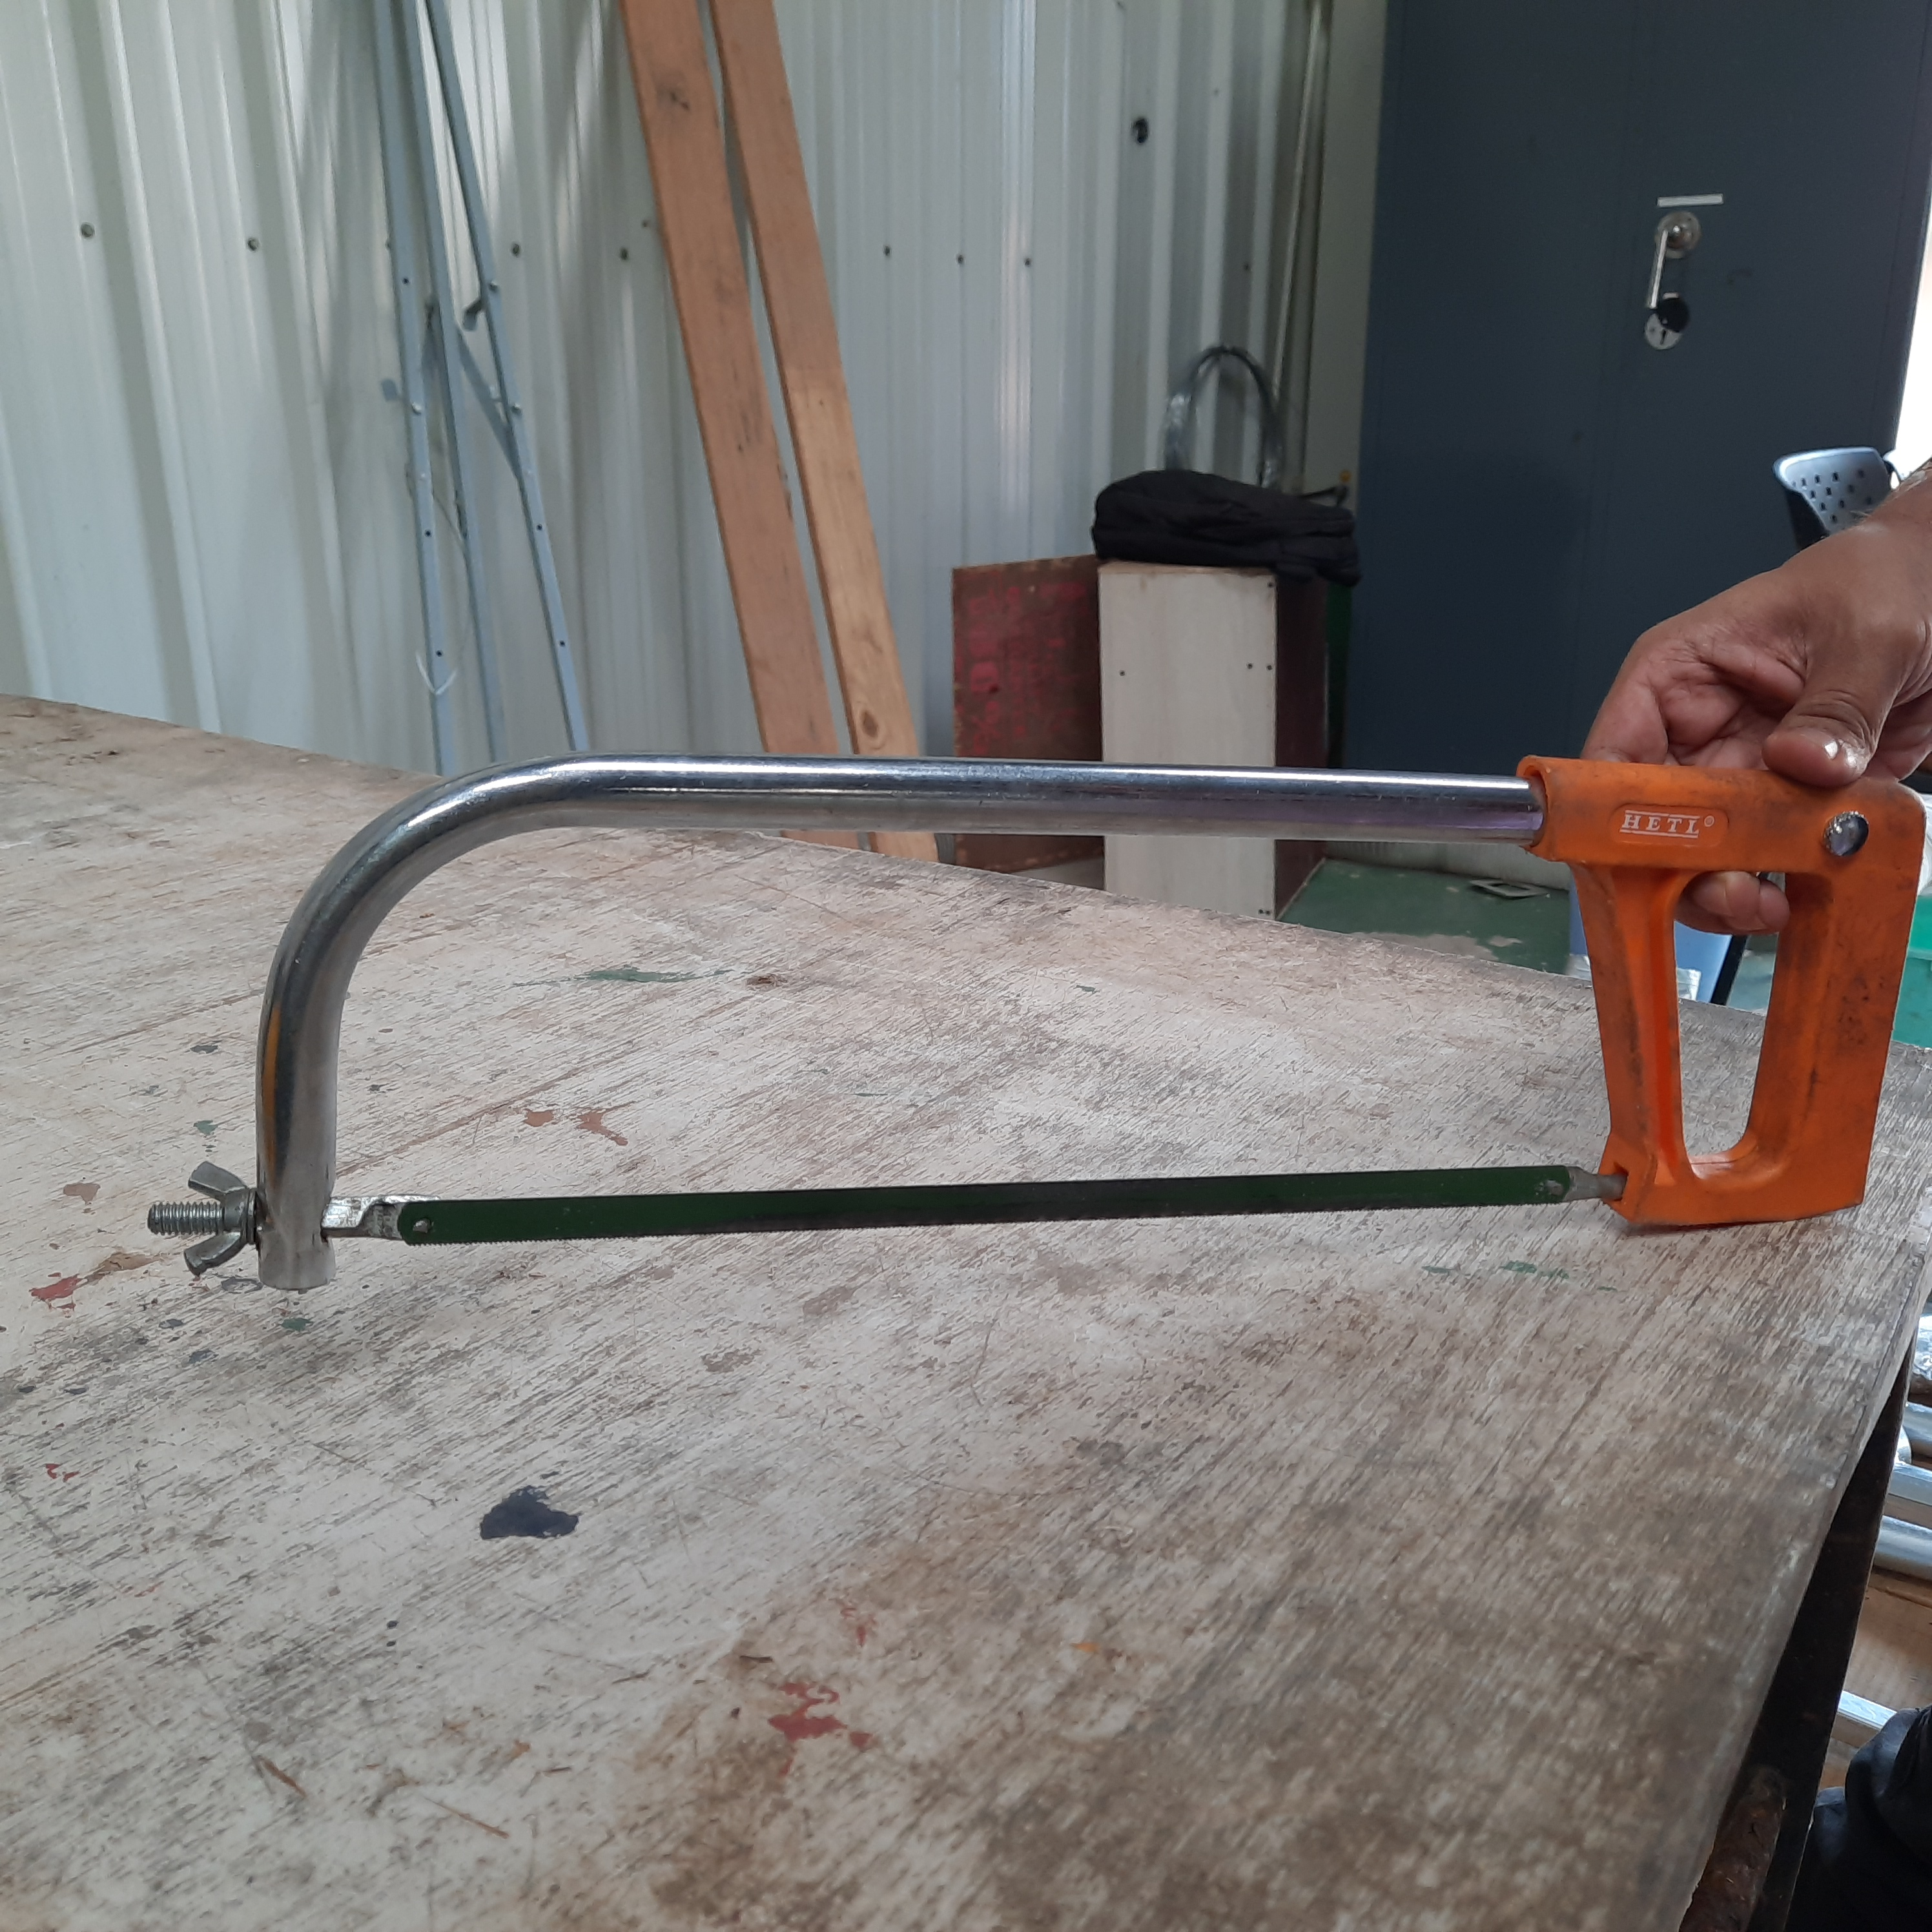Hexaframe: (152, 672, 1932, 1323)
